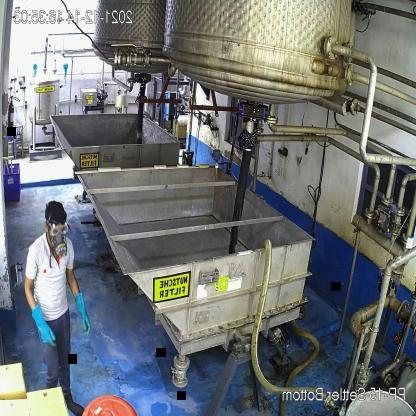glove: (29, 298, 59, 350), (74, 291, 94, 341)
goggles: (47, 222, 72, 237)
mask: (48, 231, 70, 256)
